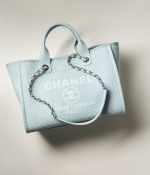channel: (9, 39, 142, 135), (36, 72, 96, 91), (59, 84, 82, 106)
